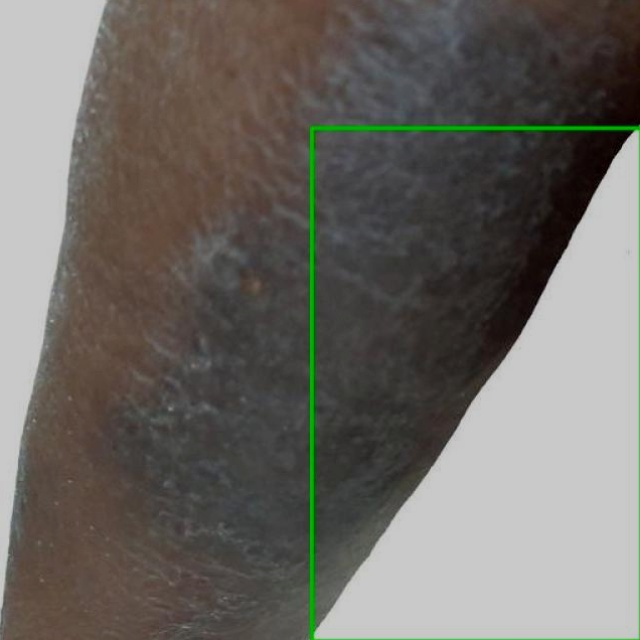Eczema: (311, 128, 639, 639)
